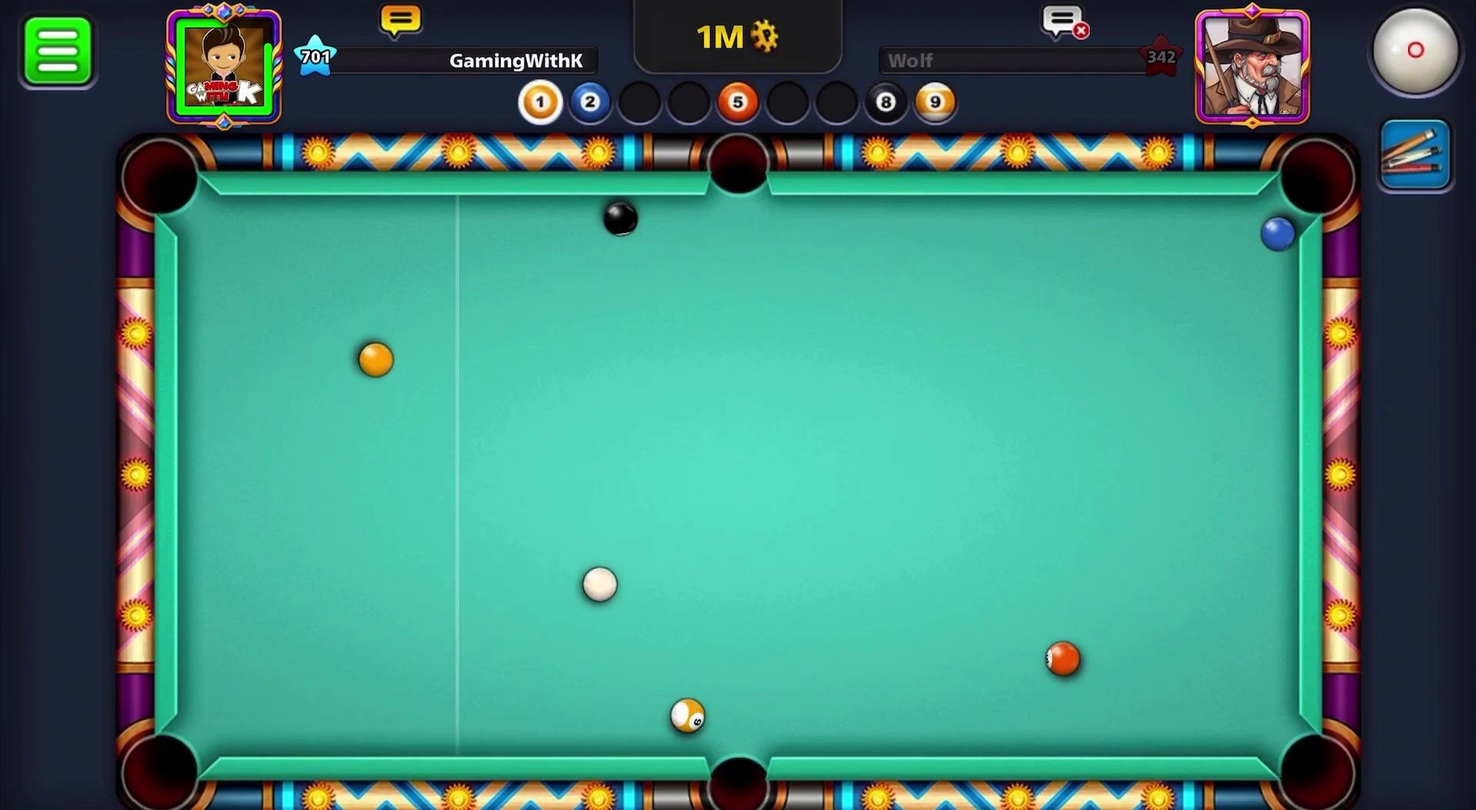Ball: (350, 335, 404, 387), (655, 693, 709, 739), (1039, 637, 1087, 681), (595, 197, 642, 237), (1259, 214, 1298, 255)
Hole: (112, 129, 208, 231), (1265, 712, 1364, 809), (1268, 133, 1363, 231), (111, 719, 209, 809), (686, 739, 785, 809), (702, 126, 777, 203)
Play_Area: (177, 194, 1298, 761)
Spin: (1344, 0, 1474, 112)
White: (574, 562, 623, 606)
